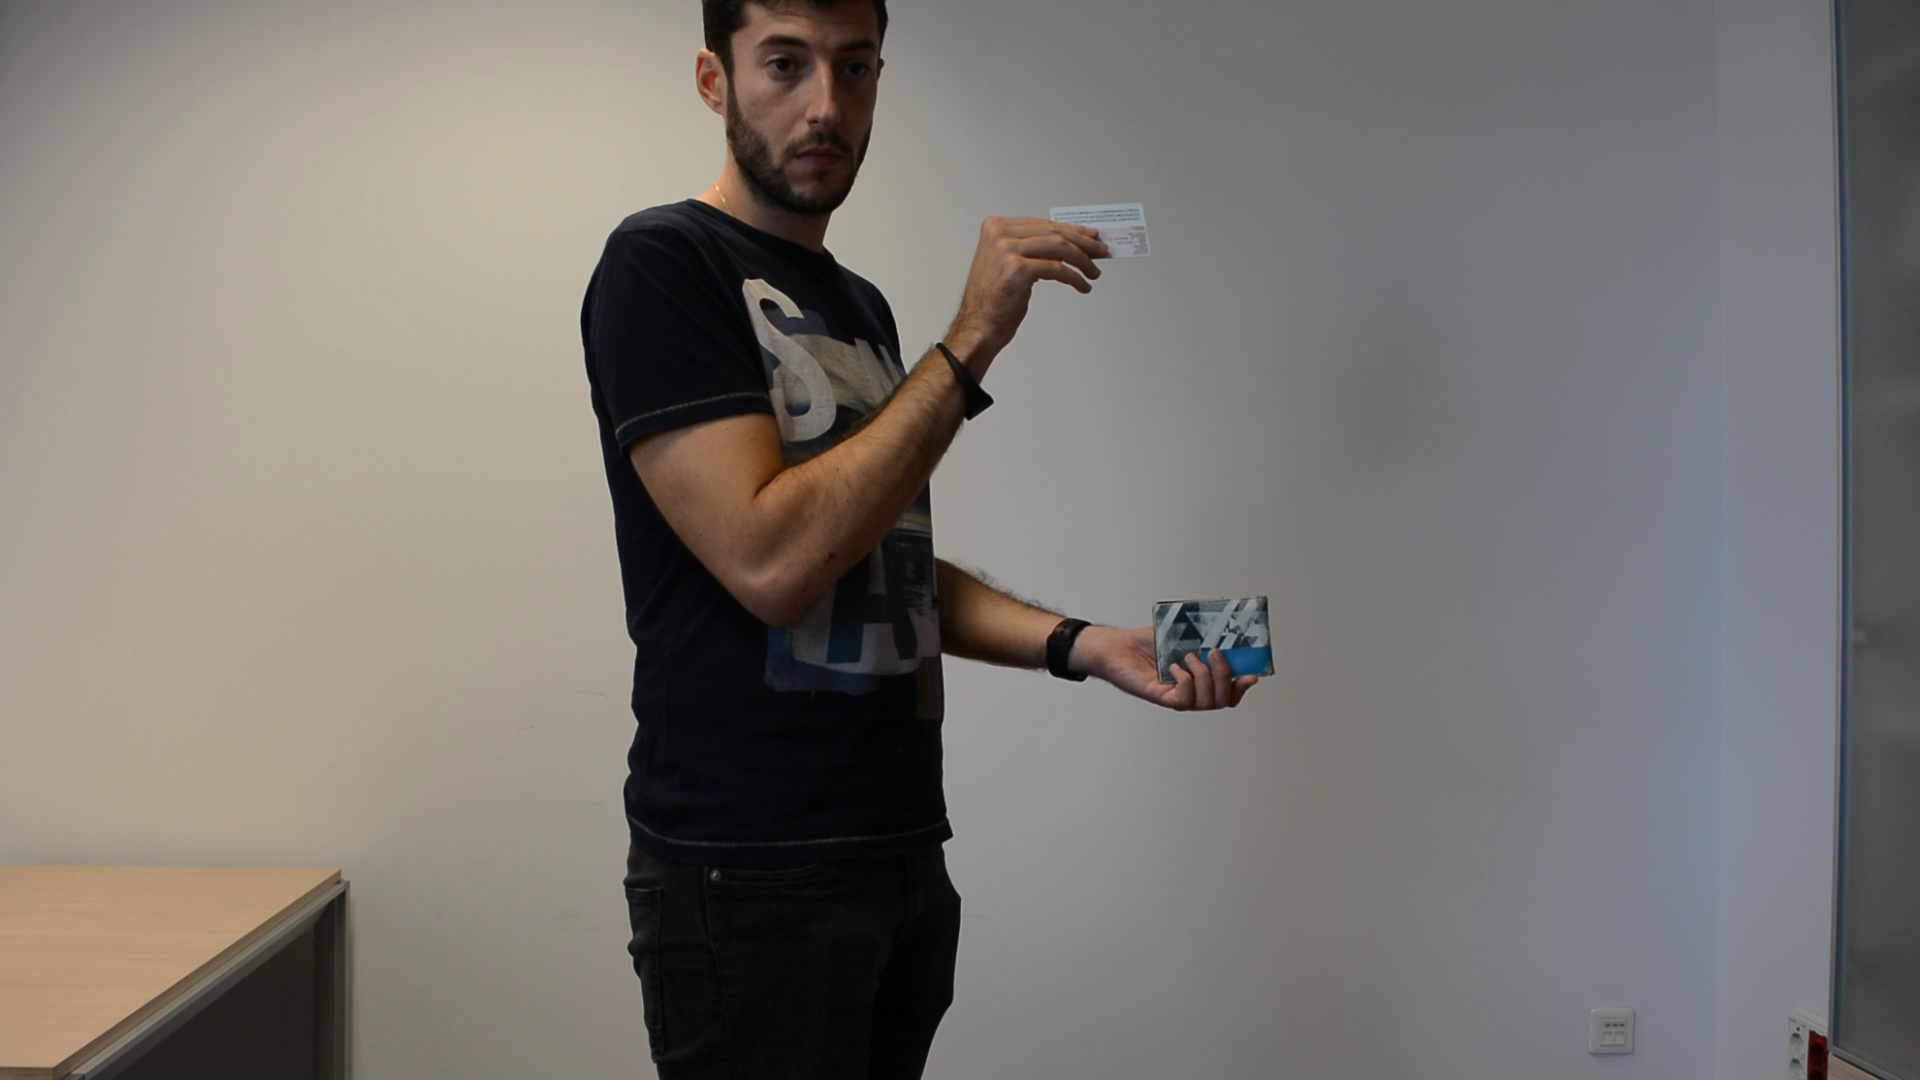monedero: (1149, 591, 1275, 690)
tarjeta: (1044, 196, 1159, 262)
